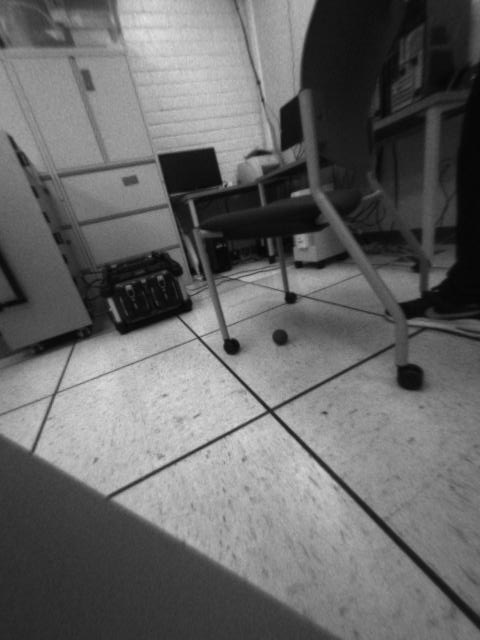dogtoy: (267, 322, 293, 348)
